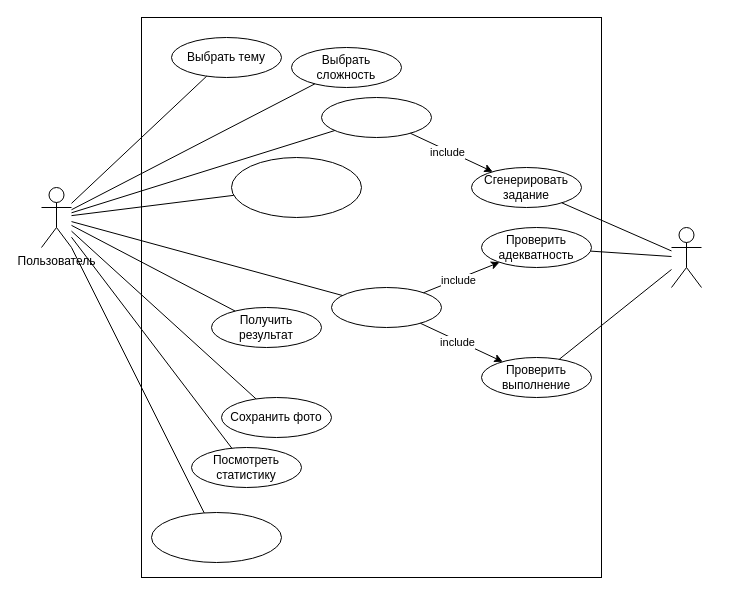
Some shapes in this 733 by 595 pixel diagram are drawn without their labels. The centre of each missing label's shape, as x and y in pixels:
"Нейросеть" goes at pixel 686 257.
"Отправить" goes at pixel 386 307.
"Получить задание" goes at pixel 376 117.
"Посмотреть сохраненные фото" goes at pixel 216 537.
"Сделать фото или загрузить из галереи" goes at pixel 296 187.
